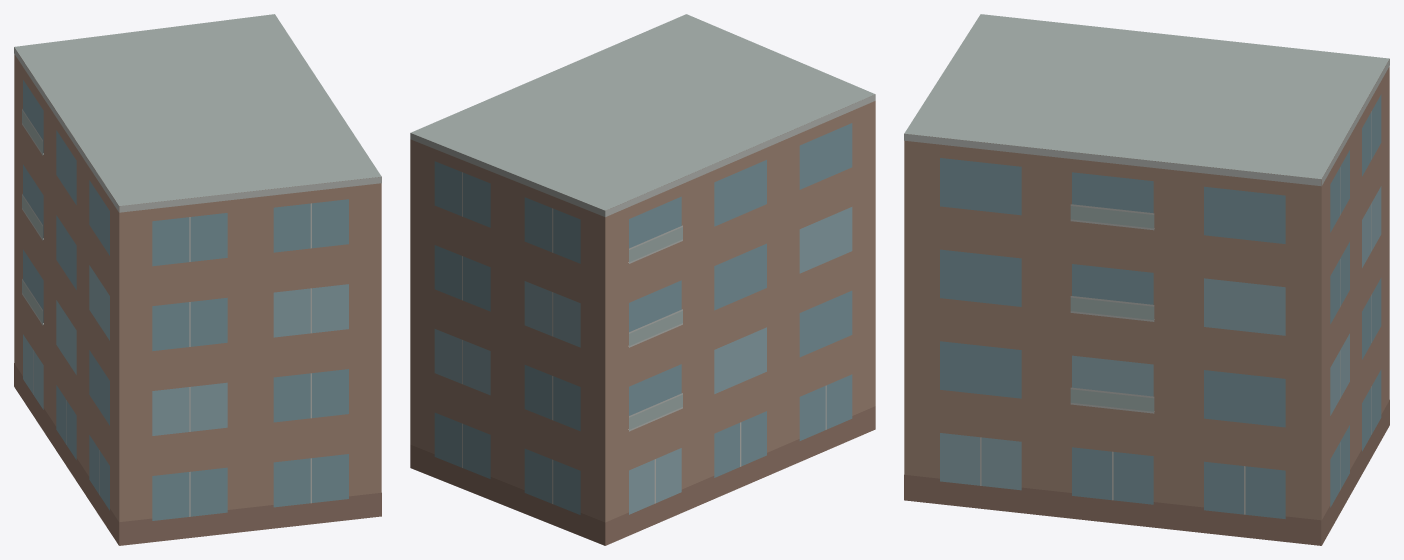
The model's file is survey-upis-32878860.glb.
3 renders of one model, left to right at view 1: azimuth 30°, elevation 25°; view 2: azimuth 150°, elevation 25°; view 3: azimuth 270°, elevation 25°, orthographic. The views are drawn at different scales.
Visible parts, largest first — view 1: survey-upis-32878860.tmp; view 2: survey-upis-32878860.tmp; view 3: survey-upis-32878860.tmp.
Boxes of the visible parts, box(x1,y1,x2,y2) form: survey-upis-32878860.tmp: box(14, 14, 381, 545); survey-upis-32878860.tmp: box(410, 14, 875, 545); survey-upis-32878860.tmp: box(904, 14, 1389, 545).
Bounding box in the file's own units: 12.28 × 12.7 × 15.25.
